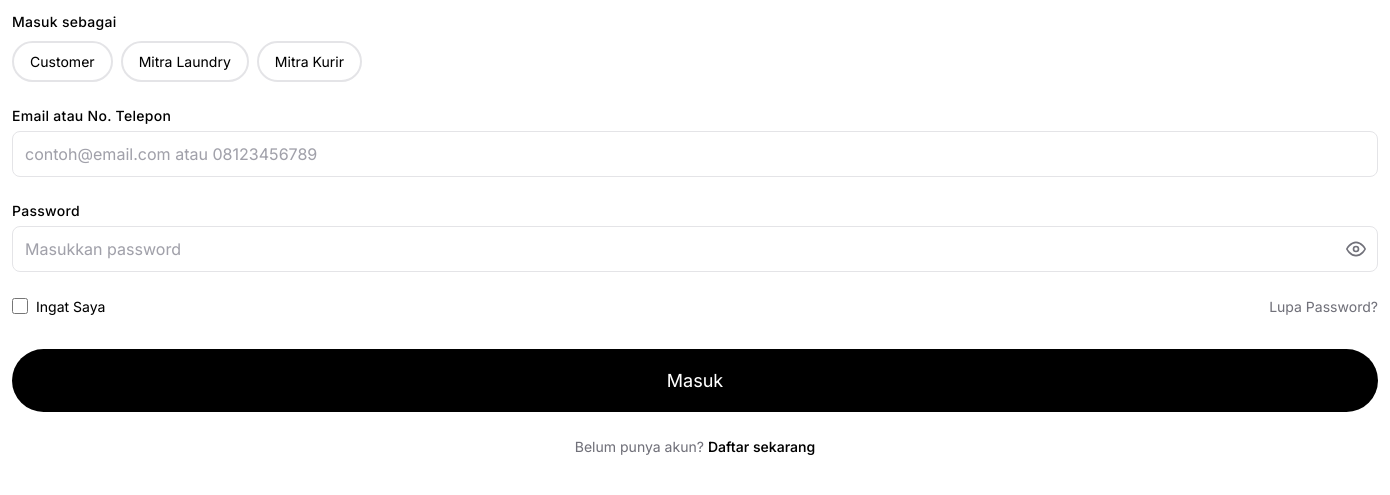
Scenario: LoginForm › form validation › shows error for short password
Click the button "Customer" at [62, 61], box [12,41,113,82]
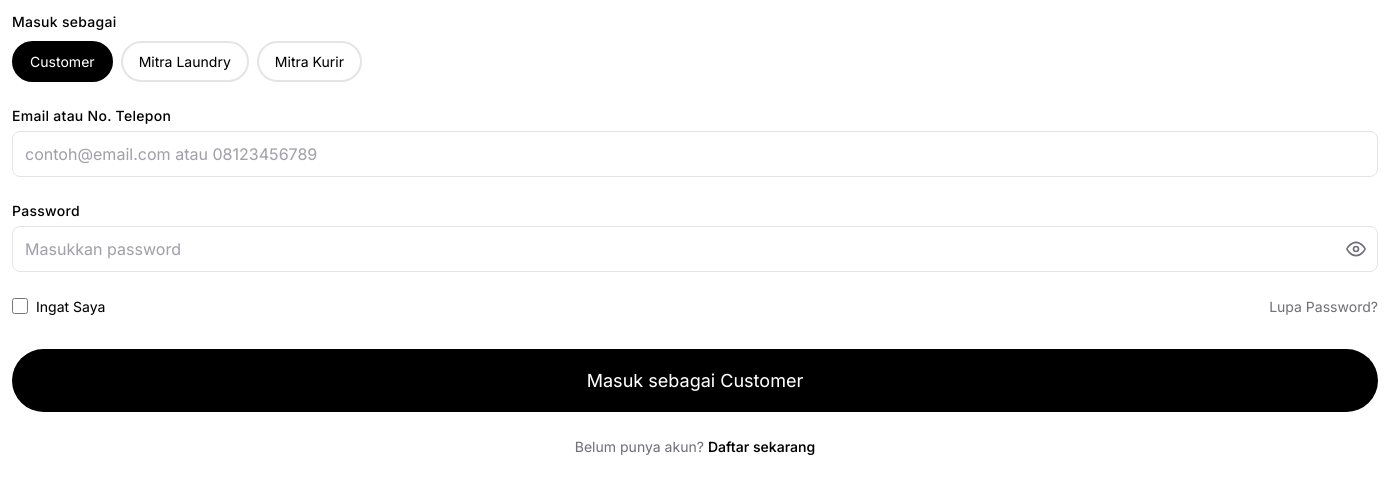
Type "test@email.com" into the field labelled "Email atau No. Telepon" at [695, 154], box [12,131,1378,177]
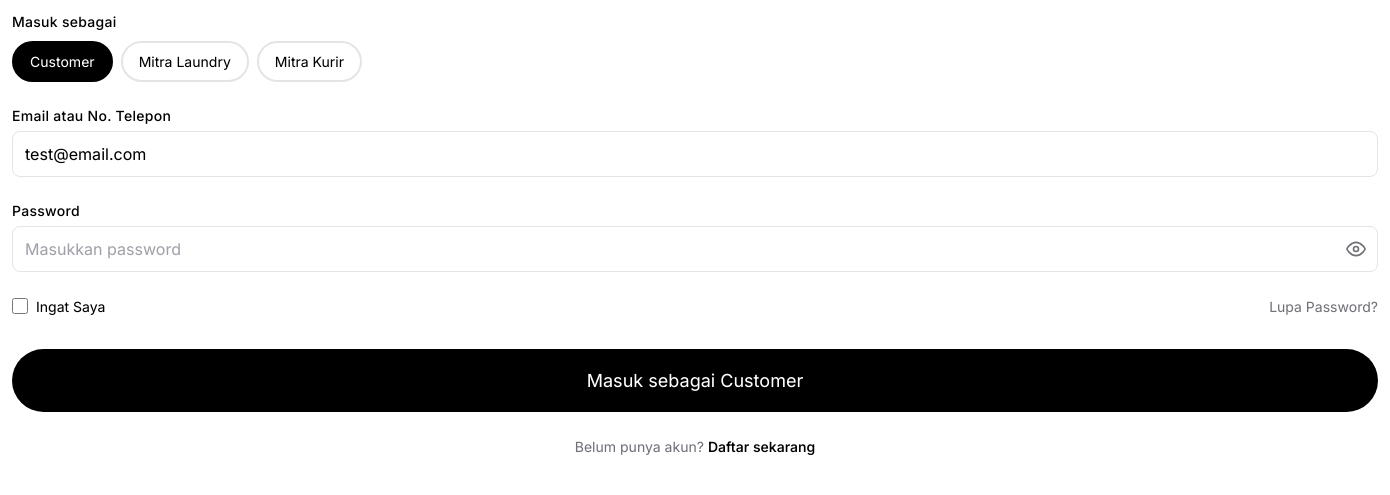
Type "12345" into the password field labelled "Password" at [695, 249], box [12,226,1378,272]
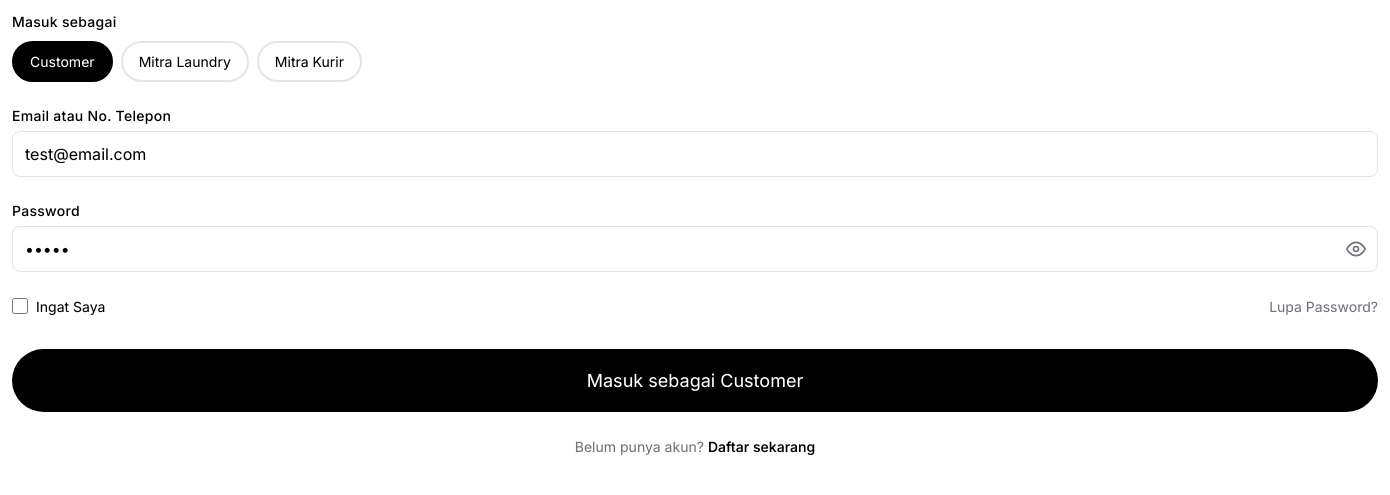
Click the button "Masuk sebagai Customer" at [695, 380], box [12,349,1378,412]
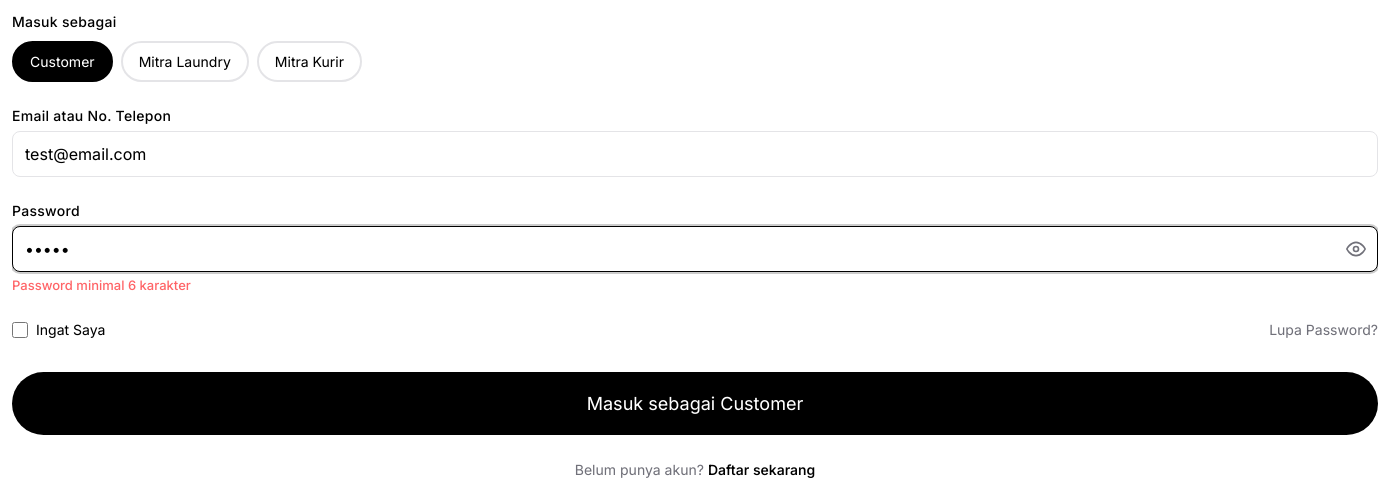
Check: the text "Password minimal 6 karakter" is shown, box [12,277,191,293]
